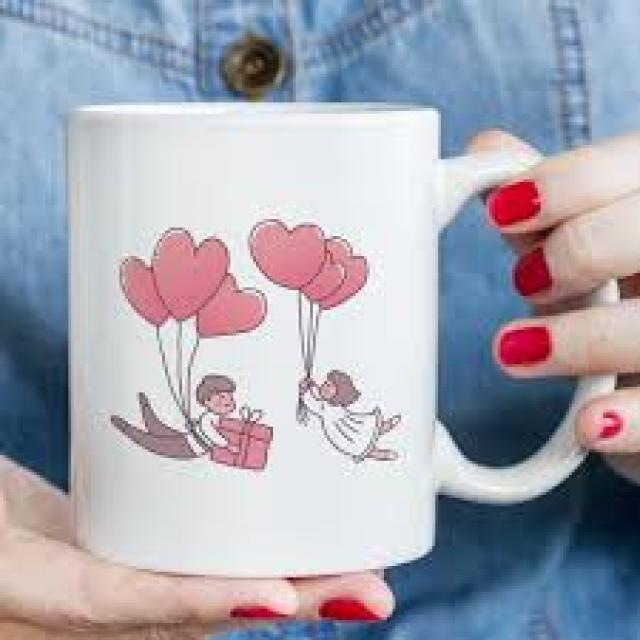taza: (46, 94, 634, 588)
